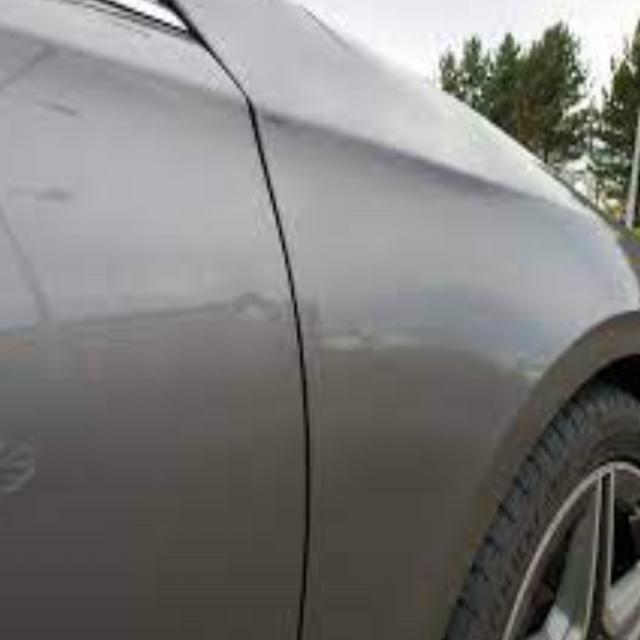dents: (225, 280, 307, 351)
